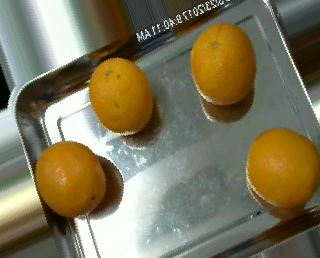Orange: (246, 127, 320, 207), (190, 22, 258, 105), (34, 140, 106, 217), (89, 55, 153, 134)
